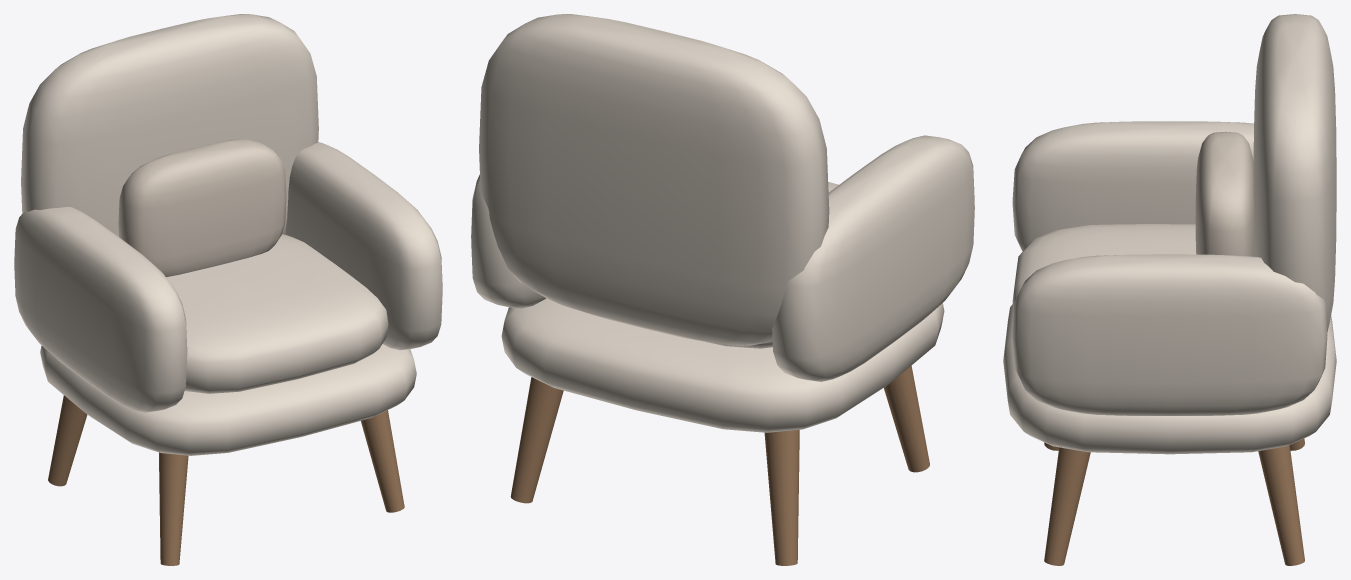
File: sample-chair.glb
The picture shows the model from 3 angles, left to right: view 1: azimuth 30°, elevation 25°; view 2: azimuth 150°, elevation 25°; view 3: azimuth 270°, elevation 25°; orthographic projection. The views are drawn at different scales.
Parts seen in each view (by area): view 1: SampleLoungeChair; view 2: SampleLoungeChair; view 3: SampleLoungeChair.
Part boxes in pixels (x1,y1,x2,y2): SampleLoungeChair: (14,14,442,565); SampleLoungeChair: (471,14,974,565); SampleLoungeChair: (1003,14,1336,565).
Size of the model in its own units: 0.83 by 1.07 by 0.72.
